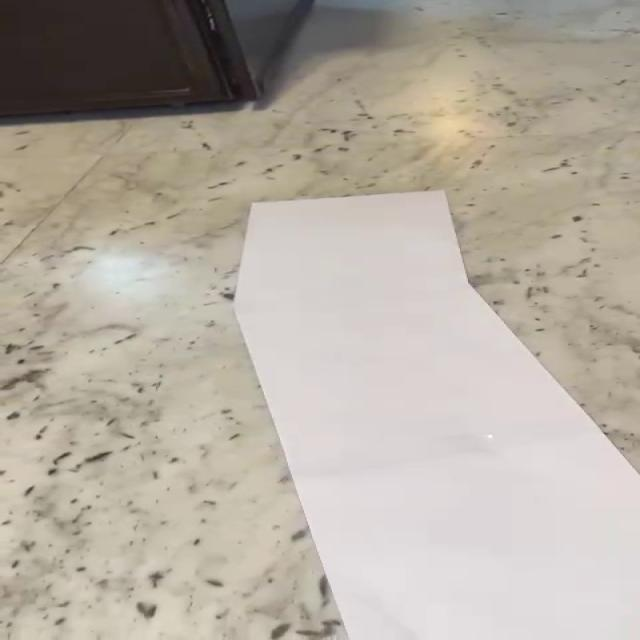road: (235, 192, 639, 640)
